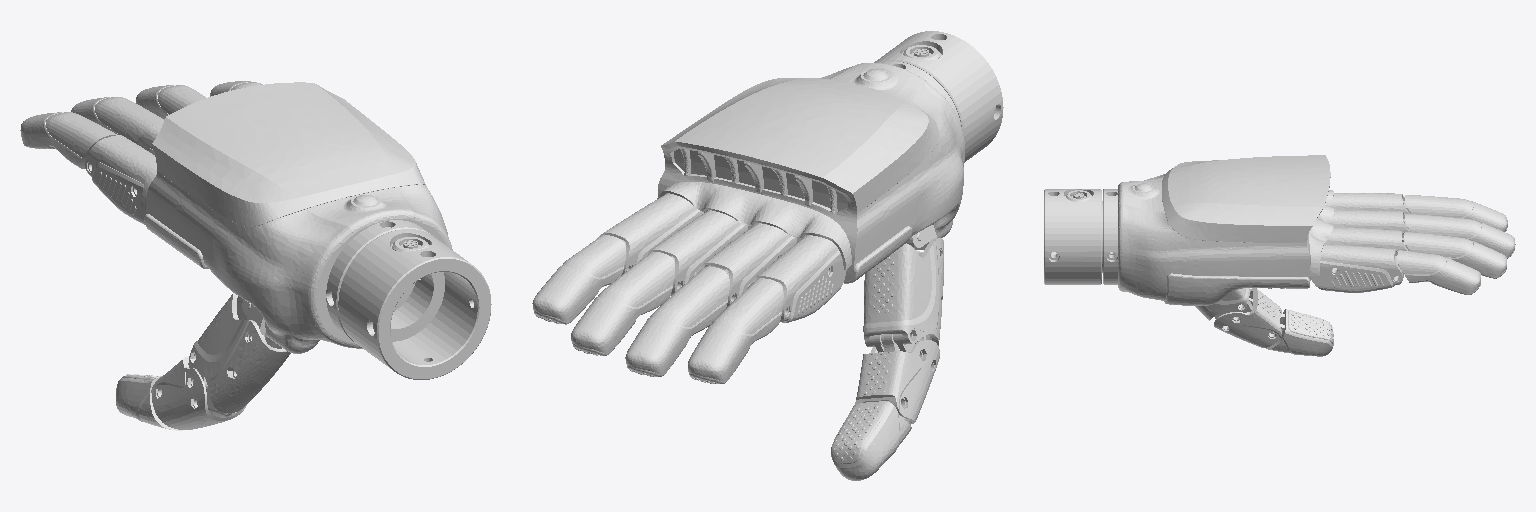
robot.urdf — inspire_hand_right:
<?xml version="1.0" ?>
<robot name="inspire_hand_right">
  <link name="base_link">
    <visual>
      <origin xyz="0.000000 0.000000 0.000000" rpy="0 0 0"/>
      <geometry>
        <mesh filename="package://inspire_hand_description/meshes/right/part_032.stl"/>
      </geometry>
      <material name="">
        <color rgba="0.9 0.9 0.9 1"/>
      </material>
    </visual>
    <visual>
      <origin xyz="0.000000 0.000000 0.000000" rpy="0 0 0"/>
      <geometry>
        <mesh filename="package://inspire_hand_description/meshes/right/part_050.stl"/>
      </geometry>
      <material name="">
        <color rgba="0.9 0.9 0.9 1"/>
      </material>
    </visual>
    <visual>
      <origin xyz="0.000000 0.000000 0.000000" rpy="0 0 0"/>
      <geometry>
        <mesh filename="package://inspire_hand_description/meshes/right/part_000.stl"/>
      </geometry>
      <material name="">
        <color rgba="0.9 0.9 0.9 1"/>
      </material>
    </visual>
    <visual>
      <origin xyz="0.000000 0.000000 0.000000" rpy="0 0 0"/>
      <geometry>
        <mesh filename="package://inspire_hand_description/meshes/right/part_002.stl"/>
      </geometry>
      <material name="">
        <color rgba="0.9 0.9 0.9 1"/>
      </material>
    </visual>
    <visual>
      <origin xyz="0.000000 0.000000 0.000000" rpy="0 0 0"/>
      <geometry>
        <mesh filename="package://inspire_hand_description/meshes/right/part_003.stl"/>
      </geometry>
      <material name="">
        <color rgba="0.9 0.9 0.9 1"/>
      </material>
    </visual>
    <visual>
      <origin xyz="0.000000 0.000000 0.000000" rpy="0 0 0"/>
      <geometry>
        <mesh filename="package://inspire_hand_description/meshes/right/part_005.stl"/>
      </geometry>
      <material name="">
        <color rgba="0.9 0.9 0.9 1"/>
      </material>
    </visual>
    <visual>
      <origin xyz="0.000000 0.000000 0.000000" rpy="0 0 0"/>
      <geometry>
        <mesh filename="package://inspire_hand_description/meshes/right/part_006.stl"/>
      </geometry>
      <material name="">
        <color rgba="0.9 0.9 0.9 1"/>
      </material>
    </visual>
    <visual>
      <origin xyz="0.000000 0.000000 0.000000" rpy="0 0 0"/>
      <geometry>
        <mesh filename="package://inspire_hand_description/meshes/right/part_008.stl"/>
      </geometry>
      <material name="">
        <color rgba="0.9 0.9 0.9 1"/>
      </material>
    </visual>
    <visual>
      <origin xyz="0.000000 0.000000 0.000000" rpy="0 0 0"/>
      <geometry>
        <mesh filename="package://inspire_hand_description/meshes/right/part_009.stl"/>
      </geometry>
      <material name="">
        <color rgba="0.9 0.9 0.9 1"/>
      </material>
    </visual>
    <visual>
      <origin xyz="0.000000 0.000000 0.000000" rpy="0 0 0"/>
      <geometry>
        <mesh filename="package://inspire_hand_description/meshes/right/part_011.stl"/>
      </geometry>
      <material name="">
        <color rgba="0.9 0.9 0.9 1"/>
      </material>
    </visual>
    <visual>
      <origin xyz="0.000000 0.000000 0.000000" rpy="0 0 0"/>
      <geometry>
        <mesh filename="package://inspire_hand_description/meshes/right/part_023.stl"/>
      </geometry>
      <material name="">
        <color rgba="0.9 0.9 0.9 1"/>
      </material>
    </visual>
    <visual>
      <origin xyz="0.000000 0.000000 0.000000" rpy="0 0 0"/>
      <geometry>
        <mesh filename="package://inspire_hand_description/meshes/right/part_024.stl"/>
      </geometry>
      <material name="">
        <color rgba="0.9 0.9 0.9 1"/>
      </material>
    </visual>
    <visual>
      <origin xyz="0.000000 0.000000 0.000000" rpy="0 0 0"/>
      <geometry>
        <mesh filename="package://inspire_hand_description/meshes/right/part_025.stl"/>
      </geometry>
      <material name="">
        <color rgba="0.9 0.9 0.9 1"/>
      </material>
    </visual>
    <visual>
      <origin xyz="0.000000 0.000000 0.000000" rpy="0 0 0"/>
      <geometry>
        <mesh filename="package://inspire_hand_description/meshes/right/part_026.stl"/>
      </geometry>
      <material name="">
        <color rgba="0.9 0.9 0.9 1"/>
      </material>
    </visual>
    <visual>
      <origin xyz="0.000000 0.000000 0.000000" rpy="0 0 0"/>
      <geometry>
        <mesh filename="package://inspire_hand_description/meshes/right/part_027.stl"/>
      </geometry>
      <material name="">
        <color rgba="0.9 0.9 0.9 1"/>
      </material>
    </visual>
    <visual>
      <origin xyz="0.000000 0.000000 0.000000" rpy="0 0 0"/>
      <geometry>
        <mesh filename="package://inspire_hand_description/meshes/right/part_028.stl"/>
      </geometry>
      <material name="">
        <color rgba="0.9 0.9 0.9 1"/>
      </material>
    </visual>
    <visual>
      <origin xyz="0.000000 0.000000 0.000000" rpy="0 0 0"/>
      <geometry>
        <mesh filename="package://inspire_hand_description/meshes/right/part_029.stl"/>
      </geometry>
      <material name="">
        <color rgba="0.9 0.9 0.9 1"/>
      </material>
    </visual>
    <visual>
      <origin xyz="0.000000 0.000000 0.000000" rpy="0 0 0"/>
      <geometry>
        <mesh filename="package://inspire_hand_description/meshes/right/part_030.stl"/>
      </geometry>
      <material name="">
        <color rgba="0.9 0.9 0.9 1"/>
      </material>
    </visual>
    <visual>
      <origin xyz="0.000000 0.000000 0.000000" rpy="0 0 0"/>
      <geometry>
        <mesh filename="package://inspire_hand_description/meshes/right/part_031.stl"/>
      </geometry>
      <material name="">
        <color rgba="0.9 0.9 0.9 1"/>
      </material>
    </visual>
    <visual>
      <origin xyz="0.000000 0.000000 0.000000" rpy="0 0 0"/>
      <geometry>
        <mesh filename="package://inspire_hand_description/meshes/right/part_001.stl"/>
      </geometry>
      <material name="">
        <color rgba="0.9 0.9 0.9 1"/>
      </material>
    </visual>
    <visual>
      <origin xyz="0.000000 0.000000 0.000000" rpy="0 0 0"/>
      <geometry>
        <mesh filename="package://inspire_hand_description/meshes/right/part_004.stl"/>
      </geometry>
      <material name="">
        <color rgba="0.9 0.9 0.9 1"/>
      </material>
    </visual>
    <visual>
      <origin xyz="0.000000 0.000000 0.000000" rpy="0 0 0"/>
      <geometry>
        <mesh filename="package://inspire_hand_description/meshes/right/part_007.stl"/>
      </geometry>
      <material name="">
        <color rgba="0.9 0.9 0.9 1"/>
      </material>
    </visual>
    <visual>
      <origin xyz="0.000000 0.000000 0.000000" rpy="0 0 0"/>
      <geometry>
        <mesh filename="package://inspire_hand_description/meshes/right/part_010.stl"/>
      </geometry>
      <material name="">
        <color rgba="0.9 0.9 0.9 1"/>
      </material>
    </visual>
    <visual>
      <origin xyz="0.000000 0.000000 0.000000" rpy="0 0 0"/>
      <geometry>
        <mesh filename="package://inspire_hand_description/meshes/right/part_012.stl"/>
      </geometry>
      <material name="">
        <color rgba="0.9 0.9 0.9 1"/>
      </material>
    </visual>
    <visual>
      <origin xyz="0.000000 0.000000 0.000000" rpy="0 0 0"/>
      <geometry>
        <mesh filename="package://inspire_hand_description/meshes/right/part_013.stl"/>
      </geometry>
      <material name="">
        <color rgba="0.9 0.9 0.9 1"/>
      </material>
    </visual>
    <visual>
      <origin xyz="0.000000 0.000000 0.000000" rpy="0 0 0"/>
      <geometry>
        <mesh filename="package://inspire_hand_description/meshes/right/part_014.stl"/>
      </geometry>
      <material name="">
        <color rgba="0.9 0.9 0.9 1"/>
      </material>
    </visual>
    <visual>
      <origin xyz="0.000000 0.000000 0.000000" rpy="0 0 0"/>
      <geometry>
        <mesh filename="package://inspire_hand_description/meshes/right/part_015.stl"/>
      </geometry>
      <material name="">
        <color rgba="0.9 0.9 0.9 1"/>
      </material>
    </visual>
    <visual>
      <origin xyz="0.000000 0.000000 0.000000" rpy="0 0 0"/>
      <geometry>
        <mesh filename="package://inspire_hand_description/meshes/right/part_017.stl"/>
      </geometry>
      <material name="">
        <color rgba="0.9 0.9 0.9 1"/>
      </material>
    </visual>
    <visual>
      <origin xyz="0.000000 0.000000 0.000000" rpy="0 0 0"/>
      <geometry>
        <mesh filename="package://inspire_hand_description/meshes/right/part_016.stl"/>
      </geometry>
      <material name="">
        <color rgba="0.9 0.9 0.9 1"/>
      </material>
    </visual>
    <visual>
      <origin xyz="0.000000 0.000000 0.000000" rpy="0 0 0"/>
      <geometry>
        <mesh filename="package://inspire_hand_description/meshes/right/part_019.stl"/>
      </geometry>
      <material name="">
        <color rgba="0.9 0.9 0.9 1"/>
      </material>
    </visual>
    <visual>
      <origin xyz="0.000000 0.000000 0.000000" rpy="0 0 0"/>
      <geometry>
        <mesh filename="package://inspire_hand_description/meshes/right/part_020.stl"/>
      </geometry>
      <material name="">
        <color rgba="0.9 0.9 0.9 1"/>
      </material>
    </visual>
    <visual>
      <origin xyz="0.000000 0.000000 0.000000" rpy="0 0 0"/>
      <geometry>
        <mesh filename="package://inspire_hand_description/meshes/right/part_021.stl"/>
      </geometry>
      <material name="">
        <color rgba="0.9 0.9 0.9 1"/>
      </material>
    </visual>
    <visual>
      <origin xyz="0.000000 0.000000 0.000000" rpy="0 0 0"/>
      <geometry>
        <mesh filename="package://inspire_hand_description/meshes/right/part_018.stl"/>
      </geometry>
      <material name="">
        <color rgba="0.9 0.9 0.9 1"/>
      </material>
    </visual>
    <visual>
      <origin xyz="0.000000 0.000000 0.000000" rpy="0 0 0"/>
      <geometry>
        <mesh filename="package://inspire_hand_description/meshes/right/part_022.stl"/>
      </geometry>
      <material name="">
        <color rgba="0.9 0.9 0.9 1"/>
      </material>
    </visual>
    <visual>
      <origin xyz="0.000000 0.000000 0.000000" rpy="0 0 0"/>
      <geometry>
        <mesh filename="package://inspire_hand_description/meshes/right/part_041.stl"/>
      </geometry>
      <material name="">
        <color rgba="0.9 0.9 0.9 1"/>
      </material>
    </visual>
    <visual>
      <origin xyz="0.000000 0.000000 0.000000" rpy="0 0 0"/>
      <geometry>
        <mesh filename="package://inspire_hand_description/meshes/right/part_051.stl"/>
      </geometry>
      <material name="">
        <color rgba="0.9 0.9 0.9 1"/>
      </material>
    </visual>
    <visual>
      <origin xyz="0.000000 0.000000 0.000000" rpy="0 0 0"/>
      <geometry>
        <mesh filename="package://inspire_hand_description/meshes/right/part_052.stl"/>
      </geometry>
      <material name="">
        <color rgba="0.9 0.9 0.9 1"/>
      </material>
    </visual>
    <visual>
      <origin xyz="0.000000 0.000000 0.000000" rpy="0 0 0"/>
      <geometry>
        <mesh filename="package://inspire_hand_description/meshes/right/part_053.stl"/>
      </geometry>
      <material name="">
        <color rgba="0.9 0.9 0.9 1"/>
      </material>
    </visual>
    <visual>
      <origin xyz="0.000000 0.000000 0.000000" rpy="0 0 0"/>
      <geometry>
        <mesh filename="package://inspire_hand_description/meshes/right/part_033.stl"/>
      </geometry>
      <material name="">
        <color rgba="0.9 0.9 0.9 1"/>
      </material>
    </visual>
    <visual>
      <origin xyz="0.000000 0.000000 0.000000" rpy="0 0 0"/>
      <geometry>
        <mesh filename="package://inspire_hand_description/meshes/right/part_034.stl"/>
      </geometry>
      <material name="">
        <color rgba="0.9 0.9 0.9 1"/>
      </material>
    </visual>
    <visual>
      <origin xyz="0.000000 0.000000 0.000000" rpy="0 0 0"/>
      <geometry>
        <mesh filename="package://inspire_hand_description/meshes/right/part_035.stl"/>
      </geometry>
      <material name="">
        <color rgba="0.9 0.9 0.9 1"/>
      </material>
    </visual>
    <visual>
      <origin xyz="0.000000 0.000000 0.000000" rpy="0 0 0"/>
      <geometry>
        <mesh filename="package://inspire_hand_description/meshes/right/part_036.stl"/>
      </geometry>
      <material name="">
        <color rgba="0.9 0.9 0.9 1"/>
      </material>
    </visual>
    <collision>
      <origin xyz="0.000000 0.000000 0.000000" rpy="0 0 0"/>
      <geometry>
        <mesh filename="package://inspire_hand_description/meshes/right/part_032.stl"/>
      </geometry>
    </collision>
    <inertial>
      <mass value="0.05"/>
      <origin xyz="0 0 0" rpy="0 0 0"/>
      <inertia ixx="1e-06" ixy="0" ixz="0" iyy="1e-06" iyz="0" izz="1e-06"/>
    </inertial>
  </link>
  <link name="thumb_1_link">
    <visual>
      <origin xyz="0.008327 0.072456 -0.111810" rpy="0 0 0"/>
      <geometry>
        <mesh filename="package://inspire_hand_description/meshes/right/part_054.stl"/>
      </geometry>
      <material name="">
        <color rgba="0.9 0.9 0.9 1"/>
      </material>
    </visual>
    <visual>
      <origin xyz="0.008327 0.072456 -0.111810" rpy="0 0 0"/>
      <geometry>
        <mesh filename="package://inspire_hand_description/meshes/right/part_055.stl"/>
      </geometry>
      <material name="">
        <color rgba="0.9 0.9 0.9 1"/>
      </material>
    </visual>
    <collision>
      <origin xyz="0.008327 0.072456 -0.111810" rpy="0 0 0"/>
      <geometry>
        <mesh filename="package://inspire_hand_description/meshes/right/part_054.stl"/>
      </geometry>
    </collision>
    <inertial>
      <mass value="0.01"/>
      <origin xyz="0 0 0" rpy="0 0 0"/>
      <inertia ixx="1e-06" ixy="0" ixz="0" iyy="1e-06" iyz="0" izz="1e-06"/>
    </inertial>
  </link>
  <link name="index_1_link">
    <visual>
      <origin xyz="-0.025212 -0.033236 -0.109137" rpy="0 0 0"/>
      <geometry>
        <mesh filename="package://inspire_hand_description/meshes/right/part_039.stl"/>
      </geometry>
      <material name="">
        <color rgba="0.9 0.9 0.9 1"/>
      </material>
    </visual>
    <visual>
      <origin xyz="-0.025212 -0.033236 -0.109137" rpy="0 0 0"/>
      <geometry>
        <mesh filename="package://inspire_hand_description/meshes/right/part_046.stl"/>
      </geometry>
      <material name="">
        <color rgba="0.9 0.9 0.9 1"/>
      </material>
    </visual>
    <collision>
      <origin xyz="-0.025212 -0.033236 -0.109137" rpy="0 0 0"/>
      <geometry>
        <mesh filename="package://inspire_hand_description/meshes/right/part_039.stl"/>
      </geometry>
    </collision>
    <inertial>
      <mass value="0.01"/>
      <origin xyz="0 0 0" rpy="0 0 0"/>
      <inertia ixx="1e-06" ixy="0" ixz="0" iyy="1e-06" iyz="0" izz="1e-06"/>
    </inertial>
  </link>
  <link name="index_2_link">
    <visual>
      <origin xyz="-0.029557 -0.071996 -0.109371" rpy="0 0 0"/>
      <geometry>
        <mesh filename="package://inspire_hand_description/meshes/right/part_044.stl"/>
      </geometry>
      <material name="">
        <color rgba="0.9 0.9 0.9 1"/>
      </material>
    </visual>
    <collision>
      <origin xyz="-0.029557 -0.071996 -0.109371" rpy="0 0 0"/>
      <geometry>
        <mesh filename="package://inspire_hand_description/meshes/right/part_044.stl"/>
      </geometry>
    </collision>
    <inertial>
      <mass value="0.01"/>
      <origin xyz="0 0 0" rpy="0 0 0"/>
      <inertia ixx="1e-06" ixy="0" ixz="0" iyy="1e-06" iyz="0" izz="1e-06"/>
    </inertial>
  </link>
  <link name="middle_1_link">
    <visual>
      <origin xyz="-0.003417 -0.036926 -0.109140" rpy="0 0 0"/>
      <geometry>
        <mesh filename="package://inspire_hand_description/meshes/right/part_037.stl"/>
      </geometry>
      <material name="">
        <color rgba="0.9 0.9 0.9 1"/>
      </material>
    </visual>
    <visual>
      <origin xyz="-0.003417 -0.036926 -0.109140" rpy="0 0 0"/>
      <geometry>
        <mesh filename="package://inspire_hand_description/meshes/right/part_049.stl"/>
      </geometry>
      <material name="">
        <color rgba="0.9 0.9 0.9 1"/>
      </material>
    </visual>
    <collision>
      <origin xyz="-0.003417 -0.036926 -0.109140" rpy="0 0 0"/>
      <geometry>
        <mesh filename="package://inspire_hand_description/meshes/right/part_037.stl"/>
      </geometry>
    </collision>
    <inertial>
      <mass value="0.01"/>
      <origin xyz="0 0 0" rpy="0 0 0"/>
      <inertia ixx="1e-06" ixy="0" ixz="0" iyy="1e-06" iyz="0" izz="1e-06"/>
    </inertial>
  </link>
  <link name="middle_2_link">
    <visual>
      <origin xyz="-0.005692 -0.075552 -0.108384" rpy="0 0 0"/>
      <geometry>
        <mesh filename="package://inspire_hand_description/meshes/right/part_045.stl"/>
      </geometry>
      <material name="">
        <color rgba="0.9 0.9 0.9 1"/>
      </material>
    </visual>
    <collision>
      <origin xyz="-0.005692 -0.075552 -0.108384" rpy="0 0 0"/>
      <geometry>
        <mesh filename="package://inspire_hand_description/meshes/right/part_045.stl"/>
      </geometry>
    </collision>
    <inertial>
      <mass value="0.01"/>
      <origin xyz="0 0 0" rpy="0 0 0"/>
      <inertia ixx="1e-06" ixy="0" ixz="0" iyy="1e-06" iyz="0" izz="1e-06"/>
    </inertial>
  </link>
  <link name="ring_1_link">
    <visual>
      <origin xyz="0.018799 -0.037629 -0.109142" rpy="0 0 0"/>
      <geometry>
        <mesh filename="package://inspire_hand_description/meshes/right/part_040.stl"/>
      </geometry>
      <material name="">
        <color rgba="0.9 0.9 0.9 1"/>
      </material>
    </visual>
    <visual>
      <origin xyz="0.018799 -0.037629 -0.109142" rpy="0 0 0"/>
      <geometry>
        <mesh filename="package://inspire_hand_description/meshes/right/part_048.stl"/>
      </geometry>
      <material name="">
        <color rgba="0.9 0.9 0.9 1"/>
      </material>
    </visual>
    <collision>
      <origin xyz="0.018799 -0.037629 -0.109142" rpy="0 0 0"/>
      <geometry>
        <mesh filename="package://inspire_hand_description/meshes/right/part_040.stl"/>
      </geometry>
    </collision>
    <inertial>
      <mass value="0.01"/>
      <origin xyz="0 0 0" rpy="0 0 0"/>
      <inertia ixx="1e-06" ixy="0" ixz="0" iyy="1e-06" iyz="0" izz="1e-06"/>
    </inertial>
  </link>
  <link name="ring_2_link">
    <visual>
      <origin xyz="0.018777 -0.076026 -0.107700" rpy="0 0 0"/>
      <geometry>
        <mesh filename="package://inspire_hand_description/meshes/right/part_043.stl"/>
      </geometry>
      <material name="">
        <color rgba="0.9 0.9 0.9 1"/>
      </material>
    </visual>
    <collision>
      <origin xyz="0.018777 -0.076026 -0.107700" rpy="0 0 0"/>
      <geometry>
        <mesh filename="package://inspire_hand_description/meshes/right/part_043.stl"/>
      </geometry>
    </collision>
    <inertial>
      <mass value="0.01"/>
      <origin xyz="0 0 0" rpy="0 0 0"/>
      <inertia ixx="1e-06" ixy="0" ixz="0" iyy="1e-06" iyz="0" izz="1e-06"/>
    </inertial>
  </link>
  <link name="little_1_link">
    <visual>
      <origin xyz="0.040760 -0.037132 -0.109140" rpy="0 0 0"/>
      <geometry>
        <mesh filename="package://inspire_hand_description/meshes/right/part_038.stl"/>
      </geometry>
      <material name="">
        <color rgba="0.9 0.9 0.9 1"/>
      </material>
    </visual>
    <visual>
      <origin xyz="0.040760 -0.037132 -0.109140" rpy="0 0 0"/>
      <geometry>
        <mesh filename="package://inspire_hand_description/meshes/right/part_047.stl"/>
      </geometry>
      <material name="">
        <color rgba="0.9 0.9 0.9 1"/>
      </material>
    </visual>
    <collision>
      <origin xyz="0.040760 -0.037132 -0.109140" rpy="0 0 0"/>
      <geometry>
        <mesh filename="package://inspire_hand_description/meshes/right/part_038.stl"/>
      </geometry>
    </collision>
    <inertial>
      <mass value="0.01"/>
      <origin xyz="0 0 0" rpy="0 0 0"/>
      <inertia ixx="1e-06" ixy="0" ixz="0" iyy="1e-06" iyz="0" izz="1e-06"/>
    </inertial>
  </link>
  <link name="little_2_link">
    <visual>
      <origin xyz="0.042187 -0.075691 -0.108384" rpy="0 0 0"/>
      <geometry>
        <mesh filename="package://inspire_hand_description/meshes/right/part_042.stl"/>
      </geometry>
      <material name="">
        <color rgba="0.9 0.9 0.9 1"/>
      </material>
    </visual>
    <collision>
      <origin xyz="0.042187 -0.075691 -0.108384" rpy="0 0 0"/>
      <geometry>
        <mesh filename="package://inspire_hand_description/meshes/right/part_042.stl"/>
      </geometry>
    </collision>
    <inertial>
      <mass value="0.01"/>
      <origin xyz="0 0 0" rpy="0 0 0"/>
      <inertia ixx="1e-06" ixy="0" ixz="0" iyy="1e-06" iyz="0" izz="1e-06"/>
    </inertial>
  </link>
  <joint name="thumb_1_joint" type="revolute">
    <origin xyz="-0.008326748386025429 -0.07245590537786484 0.11181005090475082" rpy="0 0 0"/>
    <parent link="base_link"/>
    <child link="thumb_1_link"/>
    <axis xyz="-1 0 0"/>
    <limit lower="0" upper="1.246" effort="50" velocity="1"/>
  </joint>
  <joint name="index_1_joint" type="revolute">
    <origin xyz="0.025211621075868607 0.033235508017241955 0.1091374084353447" rpy="0 0 0"/>
    <parent link="base_link"/>
    <child link="index_1_link"/>
    <axis xyz="-1 0 0"/>
    <limit lower="0" upper="1.333" effort="50" velocity="1"/>
  </joint>
  <joint name="index_2_joint" type="revolute">
    <origin xyz="0.004345104098320007 0.03876055125147104 0.00023370236158370972" rpy="0 0 0"/>
    <parent link="index_1_link"/>
    <child link="index_2_link"/>
    <axis xyz="-1 0 0"/>
    <limit lower="0" upper="1.527" effort="50" velocity="1"/>
    <mimic joint="index_1_joint" multiplier="1.1169" offset="0"/>
  </joint>
  <joint name="middle_1_joint" type="revolute">
    <origin xyz="0.0034169716527685523 0.03692561760544777 0.10913979634642601" rpy="0 0 0"/>
    <parent link="base_link"/>
    <child link="middle_1_link"/>
    <axis xyz="-1 0 0"/>
    <limit lower="0" upper="1.333" effort="50" velocity="1"/>
  </joint>
  <joint name="middle_2_joint" type="revolute">
    <origin xyz="0.0022754791425541043 0.03862639144062996 -0.0007562302052974701" rpy="0 0 0"/>
    <parent link="middle_1_link"/>
    <child link="middle_2_link"/>
    <axis xyz="-1 0 0"/>
    <limit lower="0" upper="1.527" effort="50" velocity="1"/>
    <mimic joint="middle_1_joint" multiplier="1.1169" offset="0"/>
  </joint>
  <joint name="ring_1_joint" type="revolute">
    <origin xyz="-0.01879854127764702 0.03762908838689327 0.10914231091737747" rpy="0 0 0"/>
    <parent link="base_link"/>
    <child link="ring_1_link"/>
    <axis xyz="-1 0 0"/>
    <limit lower="0" upper="1.333" effort="50" velocity="1"/>
  </joint>
  <joint name="ring_2_joint" type="revolute">
    <origin xyz="2.1871179342269897e-05 0.03839699737727642 -0.00144234299659729" rpy="0 0 0"/>
    <parent link="ring_1_link"/>
    <child link="ring_2_link"/>
    <axis xyz="-1 0 0"/>
    <limit lower="0" upper="1.527" effort="50" velocity="1"/>
    <mimic joint="ring_1_joint" multiplier="1.1169" offset="0"/>
  </joint>
  <joint name="little_1_joint" type="revolute">
    <origin xyz="-0.040760405361652374 0.03713207691907883 0.10913979634642601" rpy="0 0 0"/>
    <parent link="base_link"/>
    <child link="little_1_link"/>
    <axis xyz="-1 0 0"/>
    <limit lower="0" upper="1.333" effort="50" velocity="1"/>
  </joint>
  <joint name="little_2_joint" type="revolute">
    <origin xyz="-0.0014263726770877838 0.03855884447693825 -0.0007562302052974701" rpy="0 0 0"/>
    <parent link="little_1_link"/>
    <child link="little_2_link"/>
    <axis xyz="-1 0 0"/>
    <limit lower="0" upper="1.527" effort="50" velocity="1"/>
    <mimic joint="little_1_joint" multiplier="1.1169" offset="0"/>
  </joint>
</robot>

--- Render facts (derived) ---
The picture shows the robot from 3 angles, left to right: view 1: azimuth 30°, elevation 25°; view 2: azimuth 150°, elevation 25°; view 3: azimuth 270°, elevation 25°; orthographic projection.
Robot: inspire_hand_right — 10 links, 9 joints (9 revolute); root link base_link; default pose: all joints at 0.
Visible links, largest first — view 1: base_link, thumb_1_link, little_1_link, little_2_link, ring_2_link, middle_2_link; view 2: base_link, thumb_1_link, ring_2_link, middle_2_link, little_2_link, index_2_link, little_1_link, middle_1_link, ring_1_link, index_1_link; view 3: base_link, thumb_1_link, index_1_link, middle_2_link, index_2_link, ring_2_link, little_2_link, middle_1_link, ring_1_link, little_1_link.
Boxes of the visible links, x1,y1,x2,y2 form: base_link: (116, 82, 452, 430); thumb_1_link: (338, 229, 491, 379); little_1_link: (85, 135, 156, 224); little_2_link: (20, 112, 116, 168); ring_2_link: (71, 97, 163, 143); middle_2_link: (136, 85, 205, 119); base_link: (657, 61, 964, 480); thumb_1_link: (874, 31, 1003, 162); ring_2_link: (625, 266, 729, 376); middle_2_link: (571, 252, 674, 355); little_2_link: (688, 278, 783, 383); index_2_link: (532, 235, 626, 324); little_1_link: (751, 235, 846, 322); middle_1_link: (645, 210, 747, 295); ring_1_link: (696, 223, 796, 307); index_1_link: (598, 193, 703, 274); base_link: (1103, 155, 1336, 356); thumb_1_link: (1044, 189, 1114, 284); index_1_link: (1310, 244, 1402, 292); middle_2_link: (1402, 232, 1506, 278); index_2_link: (1395, 250, 1480, 294); ring_2_link: (1403, 214, 1515, 258); little_2_link: (1403, 195, 1507, 231); middle_1_link: (1324, 227, 1407, 250); ring_1_link: (1329, 210, 1409, 232); little_1_link: (1329, 193, 1409, 213).
Bounding box of the posed robot: 0.1029 × 0.2469 × 0.1239 m (x, y, z).
56 mesh visuals loaded from 56 distinct referenced files (56 binary STL).